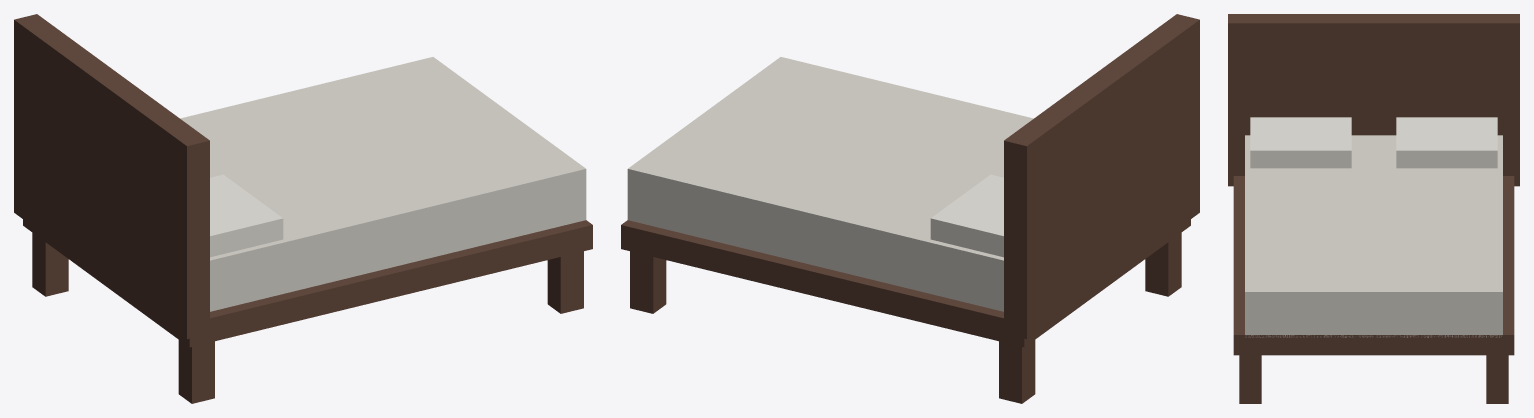
File: prop_bed.fbx
The picture shows the model from 3 angles, left to right: view 1: azimuth 30°, elevation 25°; view 2: azimuth 150°, elevation 25°; view 3: azimuth 270°, elevation 25°; orthographic projection. The views are drawn at different scales.
Parts seen in each view (by area): view 1: Mattress, Headboard, BedFrame, Pillow_-1.3, BedLeg_-3.2_-2.2, BedLeg_3.2_-2.2, BedLeg_-3.2_2.2; view 2: Mattress, Headboard, BedFrame, Pillow_1.3, BedLeg_-3.2_2.2, BedLeg_3.2_2.2, BedLeg_-3.2_-2.2; view 3: Mattress, Headboard, BedFrame, Pillow_-1.3, Pillow_1.3, BedLeg_3.2_-2.2, BedLeg_3.2_2.2.
Part boxes in pixels (bbox=[...]): Mattress: bbox=[180, 57, 586, 311]; Headboard: bbox=[14, 14, 209, 339]; BedFrame: bbox=[23, 219, 592, 347]; Pillow_-1.3: bbox=[210, 174, 283, 257]; BedLeg_-3.2_-2.2: bbox=[178, 340, 214, 403]; BedLeg_3.2_-2.2: bbox=[547, 251, 583, 313]; BedLeg_-3.2_2.2: bbox=[32, 233, 68, 296]; Mattress: bbox=[627, 57, 1033, 311]; Headboard: bbox=[1004, 14, 1199, 339]; BedFrame: bbox=[621, 219, 1190, 347]; Pillow_1.3: bbox=[930, 174, 1003, 257]; BedLeg_-3.2_2.2: bbox=[999, 340, 1035, 403]; BedLeg_3.2_2.2: bbox=[630, 251, 666, 313]; BedLeg_-3.2_-2.2: bbox=[1145, 233, 1181, 296]; Mattress: bbox=[1245, 135, 1502, 337]; Headboard: bbox=[1228, 14, 1519, 186]; BedFrame: bbox=[1233, 176, 1514, 355]; Pillow_-1.3: bbox=[1250, 117, 1351, 168]; Pillow_1.3: bbox=[1396, 117, 1497, 168]; BedLeg_3.2_-2.2: bbox=[1239, 355, 1261, 403]; BedLeg_3.2_2.2: bbox=[1486, 355, 1508, 403].
Size of the model in its own units: 7.1 by 4.4 by 5.2.
